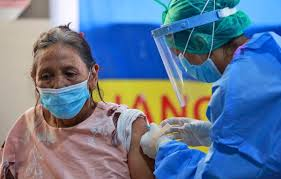with_mask: (29, 61, 99, 122), (168, 41, 230, 85)
